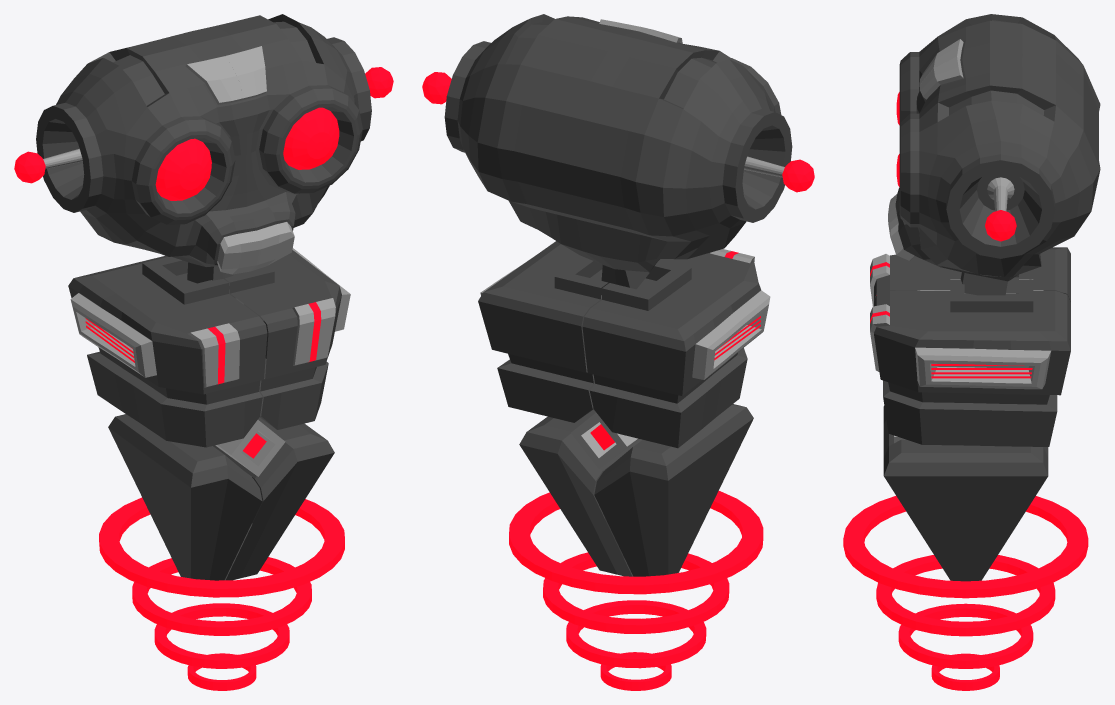
The model's file is robot-cube.glb.
3 views of the same model, side by side, from view 1: azimuth 30°, elevation 25°; view 2: azimuth 150°, elevation 25°; view 3: azimuth 270°, elevation 25° (orthographic). The views are drawn at different scales.
Parts seen in each view (by area): view 1: Circle.002, Cube.004, Cube.009, big, Circle.003, Cube.005, medium, small, Cube.007, tiny; view 2: Circle.002, Cube.004, Cube.009, big, medium, small, Cube.007, tiny; view 3: Circle.002, Cube.004, Cube.009, big, medium, small, Cube.005, tiny, Plane.001.
Part boxes in pixels (x1,y1,x2,y2): Circle.002: (14,14,393,285); Cube.004: (68,248,350,447); Cube.009: (108,414,334,580); big: (99,497,344,597); Circle.003: (155,107,339,200); Cube.005: (188,298,335,387); medium: (132,557,311,635); small: (154,603,289,668); Cube.007: (215,420,285,476); tiny: (187,653,256,690); Circle.002: (422,14,814,289); Cube.004: (478,241,770,448); Cube.009: (519,404,753,576); big: (509,491,763,594); medium: (543,552,729,633); small: (566,600,706,668); Cube.007: (571,412,639,468); tiny: (600,652,671,690); Circle.002: (888,14,1100,295); Cube.004: (874,247,1070,446); Cube.009: (883,406,1048,581); big: (843,496,1088,598); medium: (876,555,1055,636); small: (898,603,1033,668); Cube.005: (870,254,889,371); tiny: (931,653,999,690); Plane.001: (931,364,1032,378).
Bounding box in the file's own units: 0.5111 × 0.8184 × 0.306.
